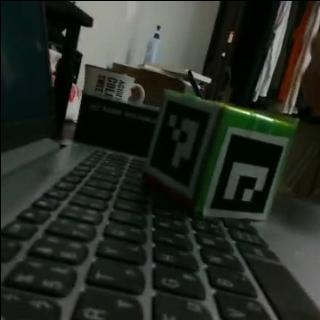armor: (202, 124, 288, 220), (145, 88, 220, 194)
robot: (144, 86, 295, 222)
